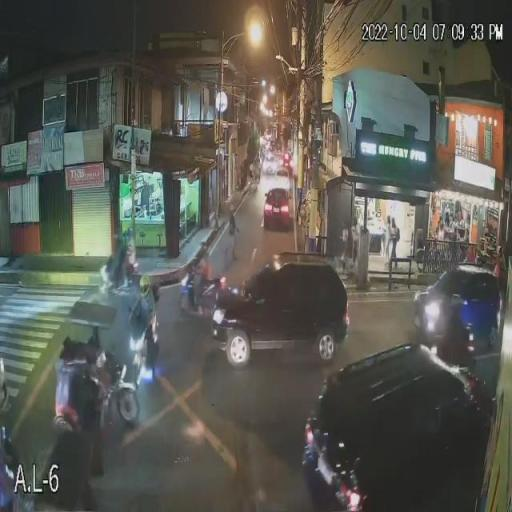helmet: (137, 274, 154, 298), (122, 225, 136, 239), (197, 242, 209, 254), (113, 232, 123, 243)
motorcycle: (126, 310, 156, 385), (177, 271, 226, 309), (99, 263, 140, 292)
rider: (192, 255, 212, 310), (133, 296, 160, 326), (108, 245, 126, 289), (122, 237, 136, 283)
